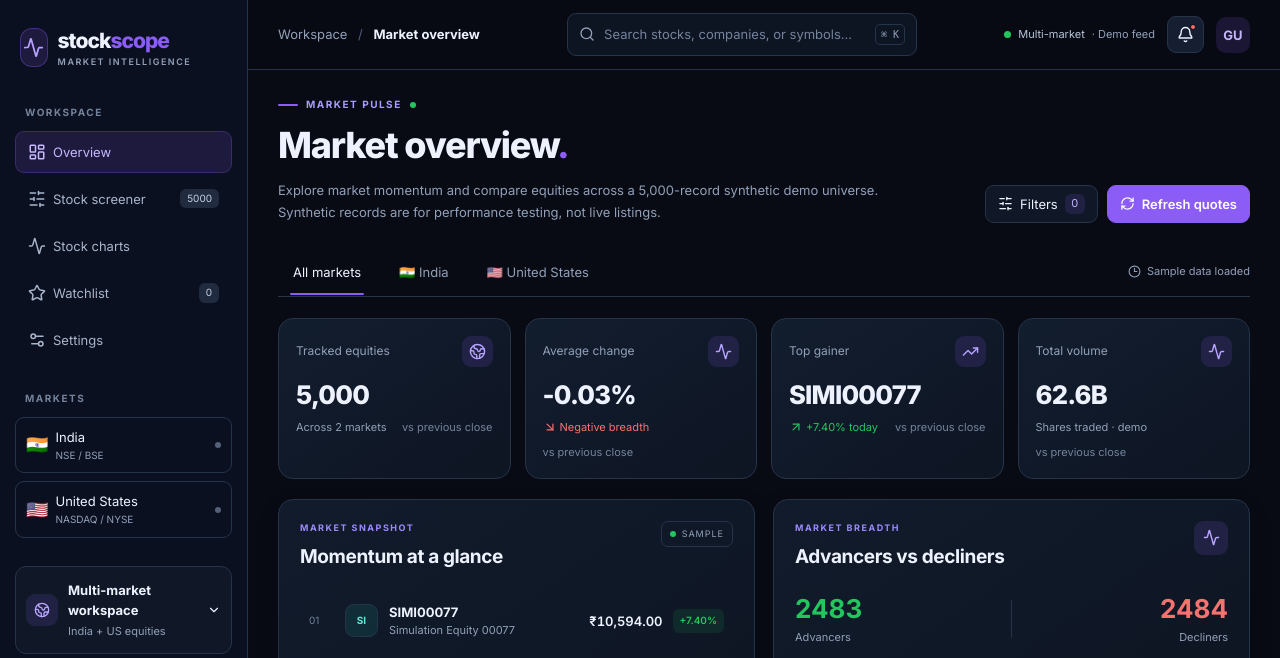
Test: App.jsx dashboard › filters stocks through the global search
In the field named "search all stocks": (735, 34) [604,14,866,54], type "AAPL"
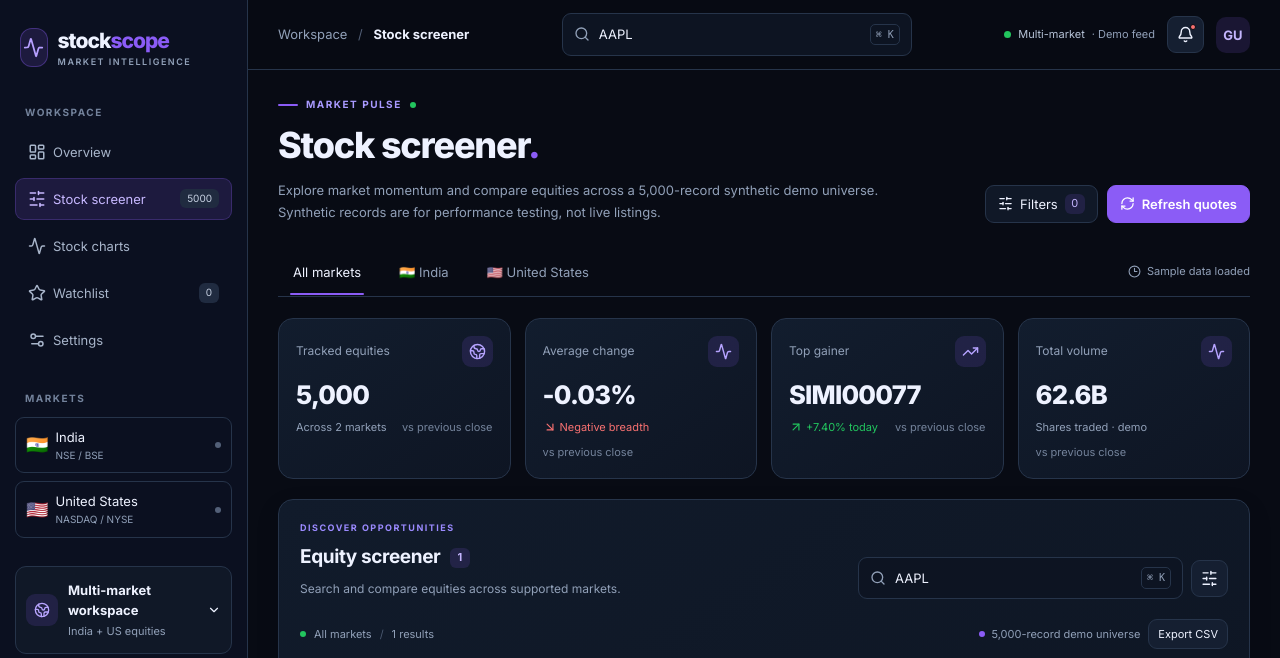
Result: the heading "Stock screener." is shown at [278,122,540,166]
